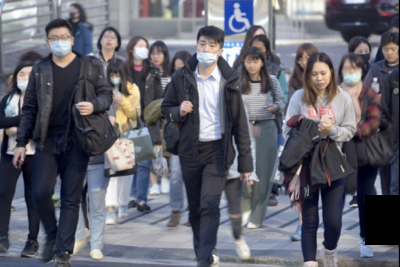mask_weared_incorrect: (193, 39, 219, 66), (339, 62, 361, 87), (14, 69, 32, 91)
with_mask: (48, 32, 70, 56), (130, 43, 149, 62), (352, 46, 369, 66), (106, 70, 120, 86)
without_mask: (308, 66, 330, 90), (243, 56, 261, 75), (97, 32, 116, 50), (380, 45, 397, 62), (295, 53, 309, 70), (149, 50, 163, 66)
